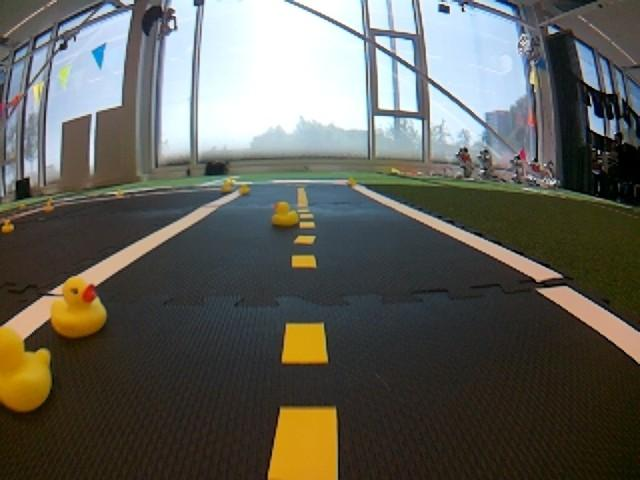Duckies: (0, 327, 51, 411), (53, 282, 109, 336), (271, 202, 298, 227), (1, 219, 14, 233), (221, 181, 233, 192), (43, 201, 54, 212), (238, 184, 250, 194), (116, 189, 124, 197), (17, 202, 26, 209), (347, 177, 355, 184)
